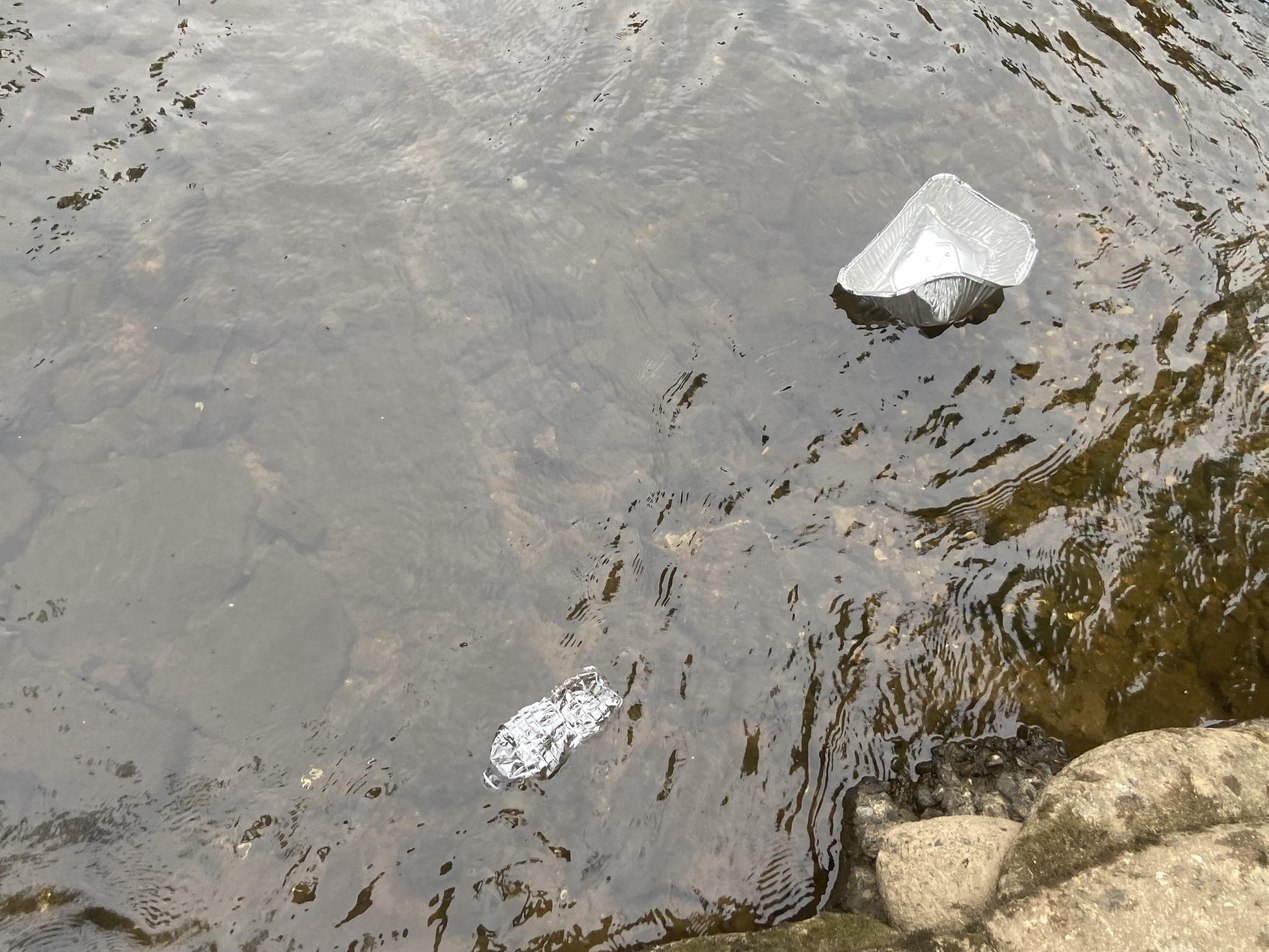metal: (824, 157, 1045, 342)
plastic: (471, 658, 636, 809)
